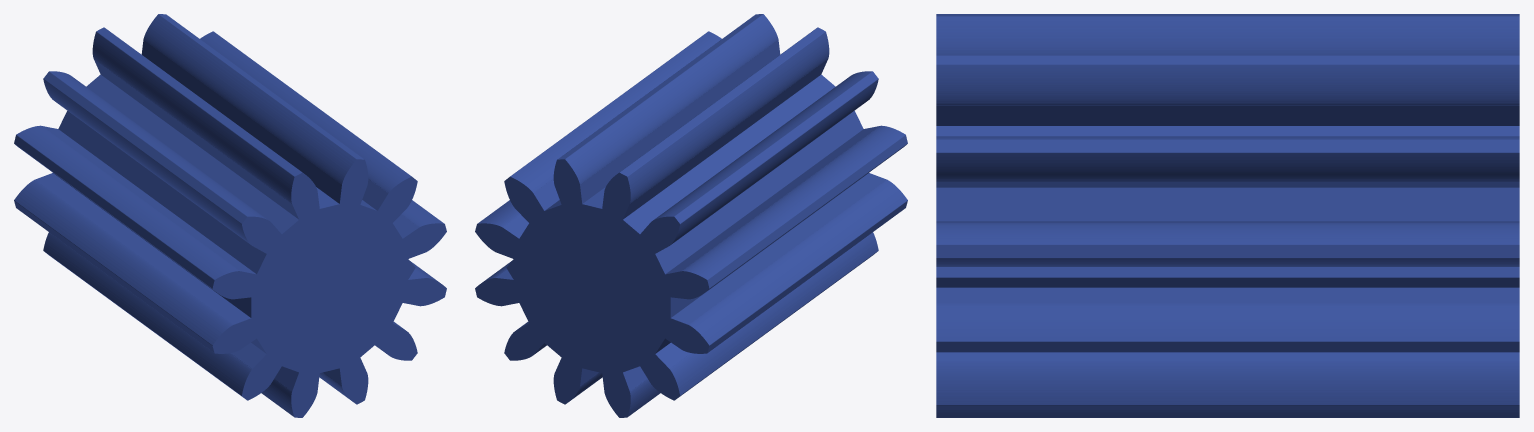
The model's file is tinker.obj.
The picture shows the model from 3 angles, left to right: view 1: azimuth 30°, elevation 25°; view 2: azimuth 150°, elevation 25°; view 3: azimuth 270°, elevation 25°; orthographic projection. The views are drawn at different scales.
Visible parts, largest first — view 1: obj_0; view 2: obj_0; view 3: obj_0.
Boxes of the visible parts, box(x1,y1,x2,y2) form: obj_0: box(14, 14, 446, 417); obj_0: box(475, 14, 907, 417); obj_0: box(936, 14, 1519, 417).
Bounding box in the file's own units: 13.63 × 13.63 × 20.
